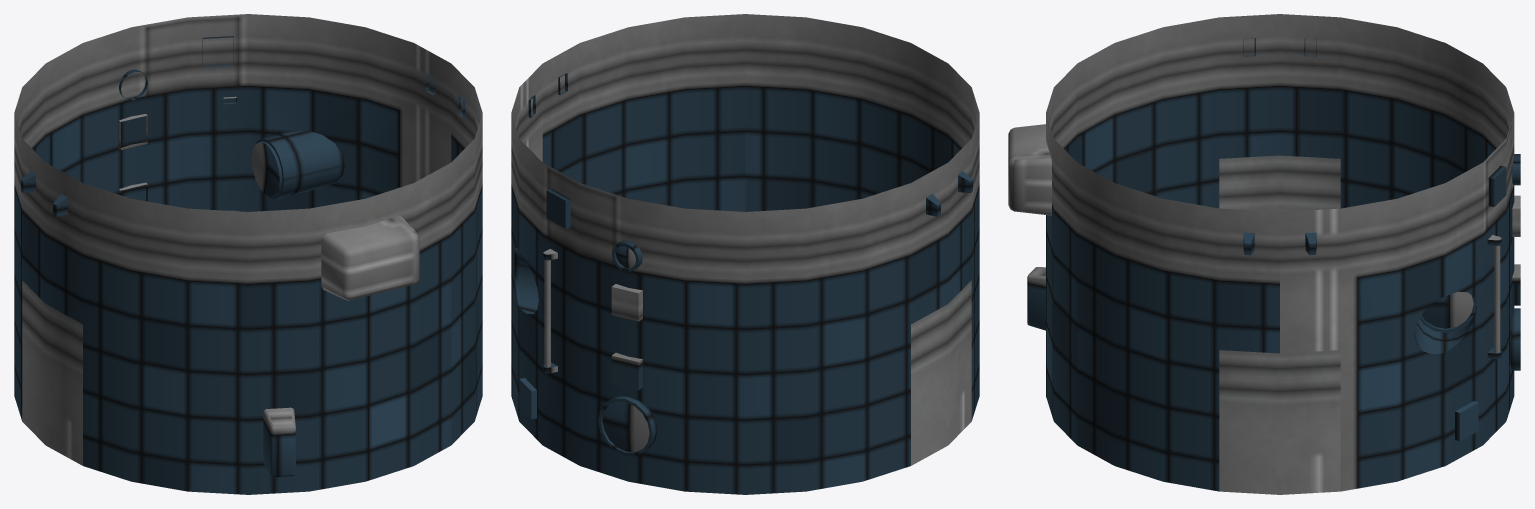
File: aquila_crew_s1p5_1_plain.obj
3 views of the same model, side by side, from view 1: azimuth 30°, elevation 25°; view 2: azimuth 150°, elevation 25°; view 3: azimuth 270°, elevation 25° (orthographic).
Parts seen in each view (by area): view 1: 1, w1; view 2: 1, w1; view 3: 1, w1.
Part boxes in pixels (x1,y1,x2,y2): 1: [14, 14, 482, 494]; w1: [251, 142, 279, 196]; 1: [511, 14, 979, 494]; w1: [602, 246, 649, 451]; 1: [1008, 14, 1520, 494]; w1: [1421, 291, 1473, 328].
Size of the model in its own units: 1.94 by 1.25 by 2.05.
